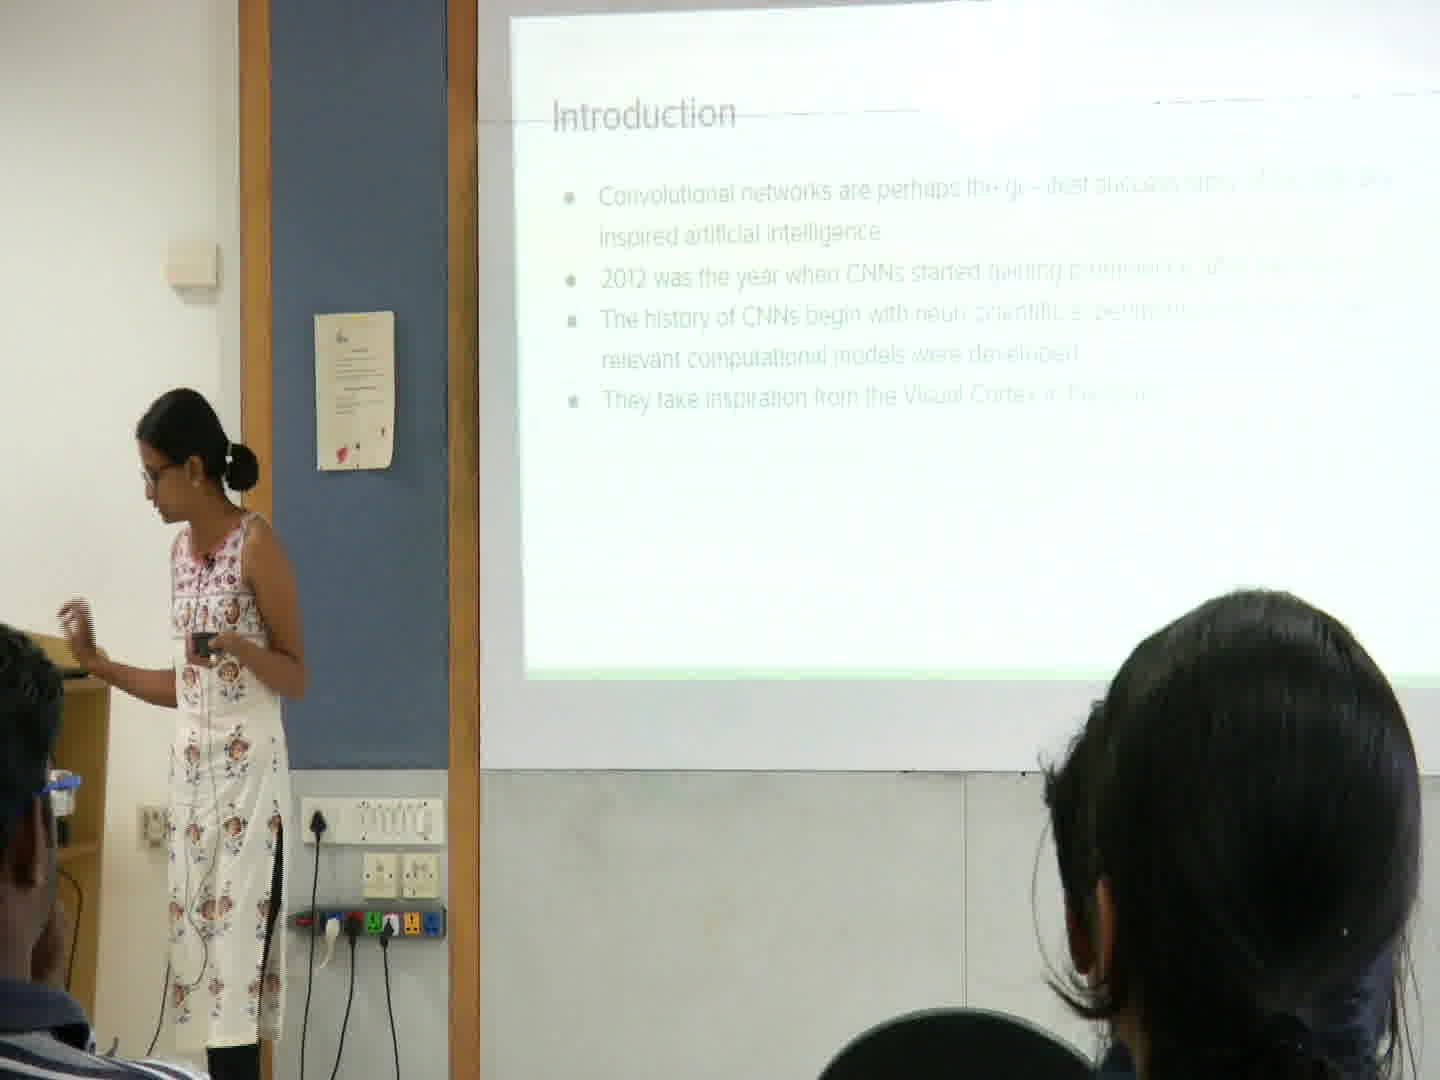slide: (511, 1, 1440, 687)
